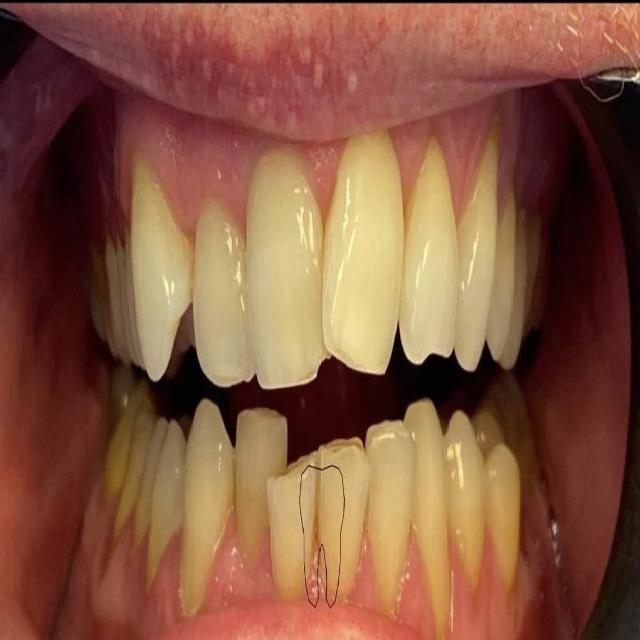tooth: (314, 116, 398, 375), (247, 148, 326, 392), (401, 408, 467, 612), (190, 186, 252, 388), (403, 144, 460, 358), (129, 143, 183, 364), (153, 429, 212, 593), (348, 412, 407, 576), (243, 345, 286, 564), (464, 141, 500, 350), (291, 458, 349, 562), (489, 478, 524, 573)
